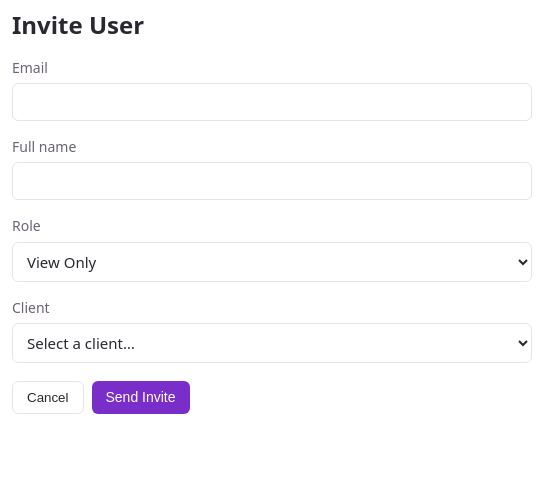
Scenario: UserInvitePage › rejects an invalid email format
Type "not-an-email" into the field labelled "Email" at [272, 102], box [12,83,532,121]
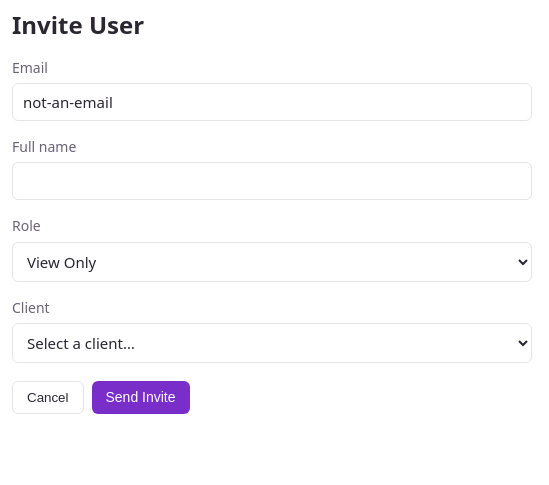
Type "Someone" into the field labelled "Full name" at [272, 181], box [12,162,532,200]
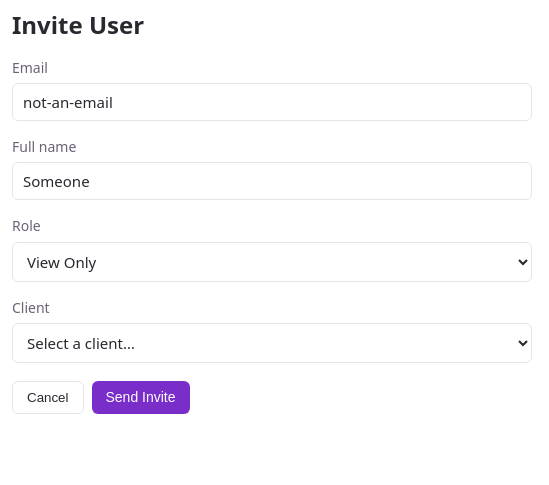
Click the button "Send Invite" at [141, 397], box [92,381,190,414]
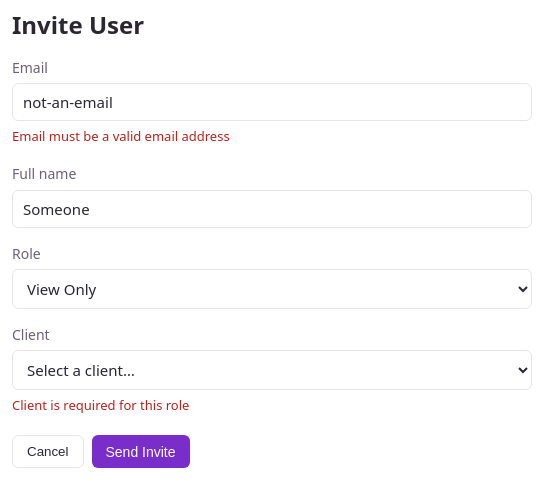
Result: the text "Email must be a valid email address" is shown at [12,127,230,145]
